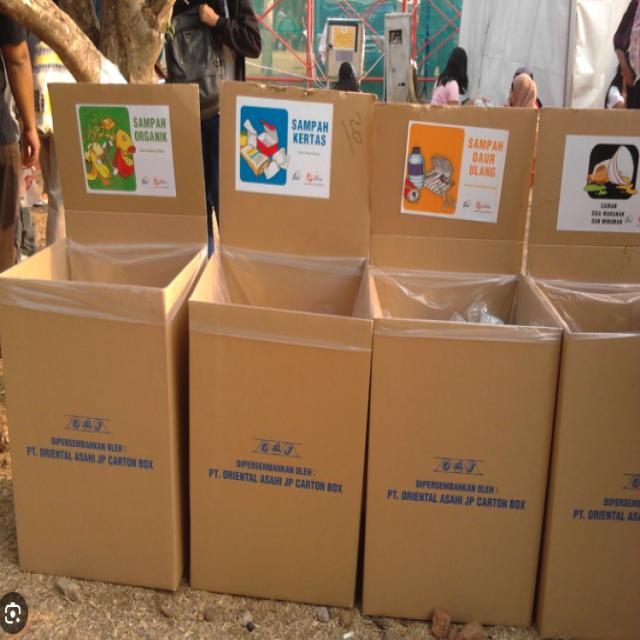Kardus: (2, 85, 208, 590), (372, 102, 566, 630), (194, 80, 378, 610), (537, 109, 640, 639)
